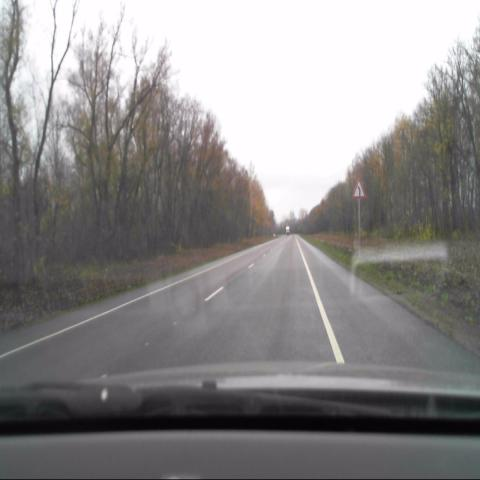1_11_1: (352, 177, 364, 198)
